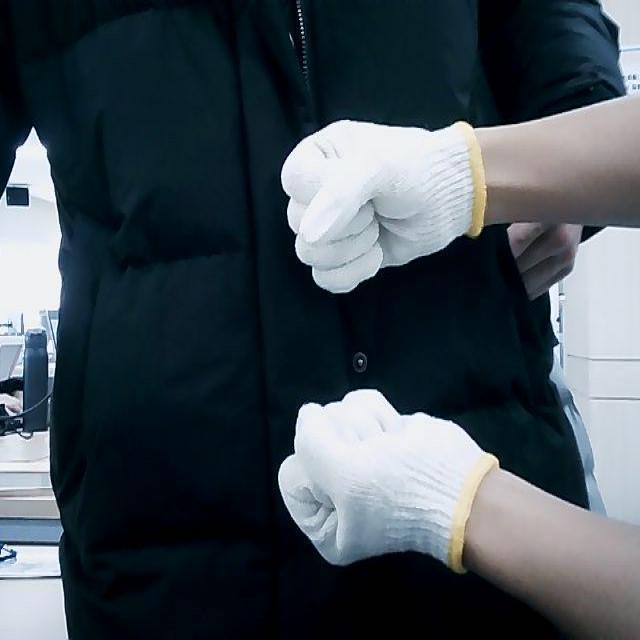gloves: (274, 388, 500, 576), (280, 119, 488, 295)
